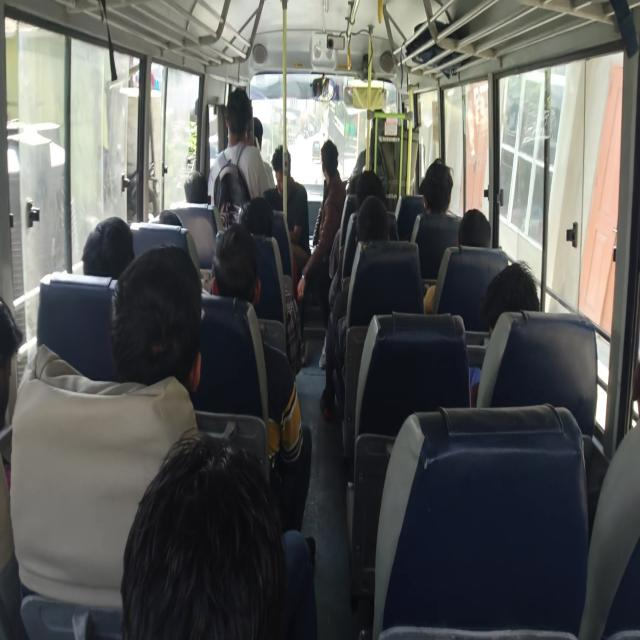person: (124, 438, 232, 638), (126, 250, 221, 368), (64, 217, 138, 284), (493, 262, 550, 331), (212, 228, 262, 306), (0, 323, 27, 420), (456, 209, 498, 260), (363, 192, 399, 244), (247, 198, 287, 244), (227, 90, 254, 150), (250, 177, 290, 217), (184, 168, 221, 209), (159, 189, 191, 235), (420, 169, 448, 213), (273, 138, 300, 180), (318, 144, 340, 185), (249, 89, 262, 150), (417, 166, 439, 198), (354, 178, 382, 198)
